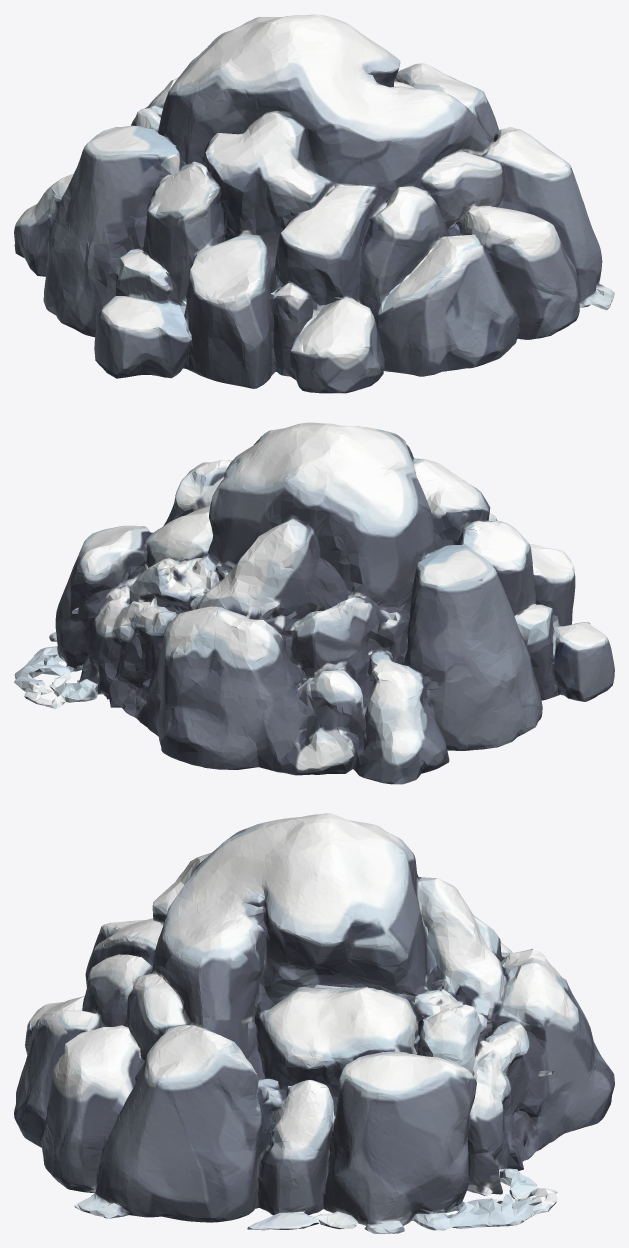
File: snowrock_painted.glb
The picture shows the model from 3 angles, top to bottom: view 1: azimuth 30°, elevation 25°; view 2: azimuth 150°, elevation 25°; view 3: azimuth 270°, elevation 25°; orthographic projection. The views are drawn at different scales.
Visible parts, largest first — view 1: geometry_0; view 2: geometry_0; view 3: geometry_0.
Part boxes in pixels (x1,y1,x2,y2): geometry_0: [14, 14, 614, 393]; geometry_0: [14, 422, 614, 784]; geometry_0: [14, 813, 614, 1233].
Size of the model in its own units: 1.99 by 0.9988 by 1.93.
Materials: 1 (1 with a texture image).
